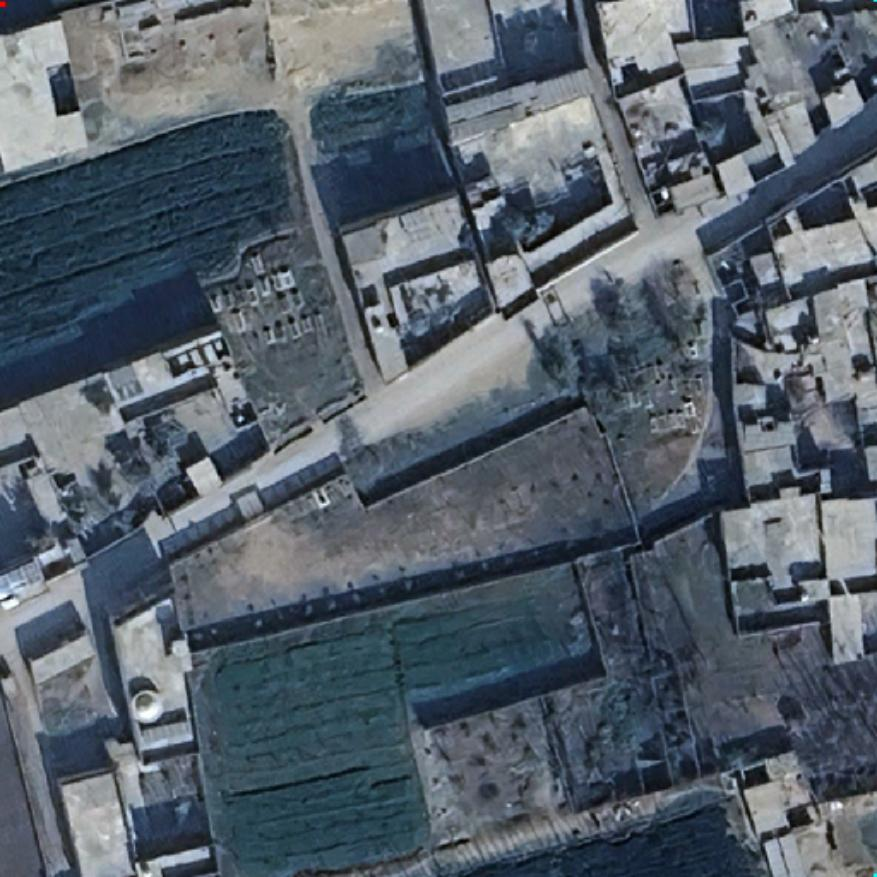Solarpanel: (136, 718, 194, 748), (4, 562, 43, 598)
